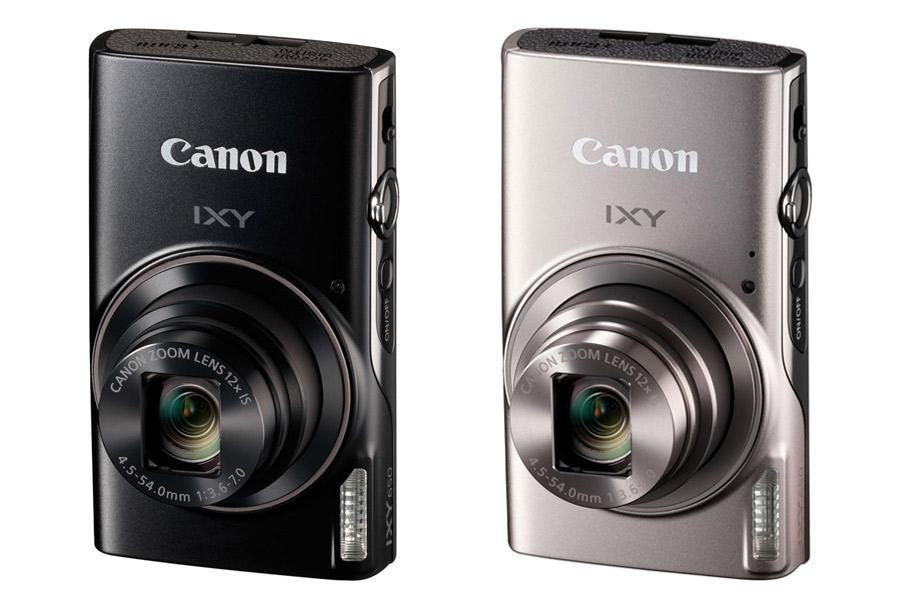degital-camera: (74, 18, 399, 588), (493, 17, 816, 584)
